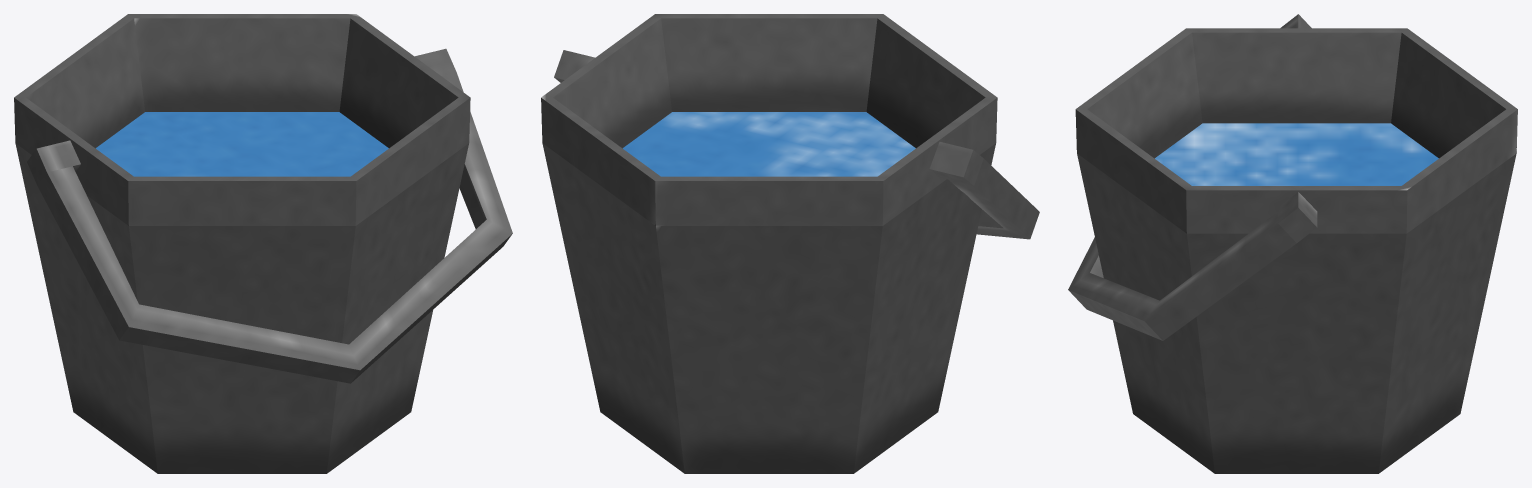
The model's file is Bucket 1.fbx.
3 views of the same model, side by side, from view 1: azimuth 30°, elevation 25°; view 2: azimuth 150°, elevation 25°; view 3: azimuth 270°, elevation 25° (orthographic). The views are drawn at different scales.
Parts seen in each view (by area): view 1: bucket.001; view 2: bucket.001; view 3: bucket.001.
Boxes of the visible parts, x1,y1,x2,y2 form: bucket.001: (14, 14, 512, 473); bucket.001: (541, 14, 1039, 473); bucket.001: (1068, 14, 1517, 473).
Size of the model in its own units: 44.12 by 32.37 by 43.3.
